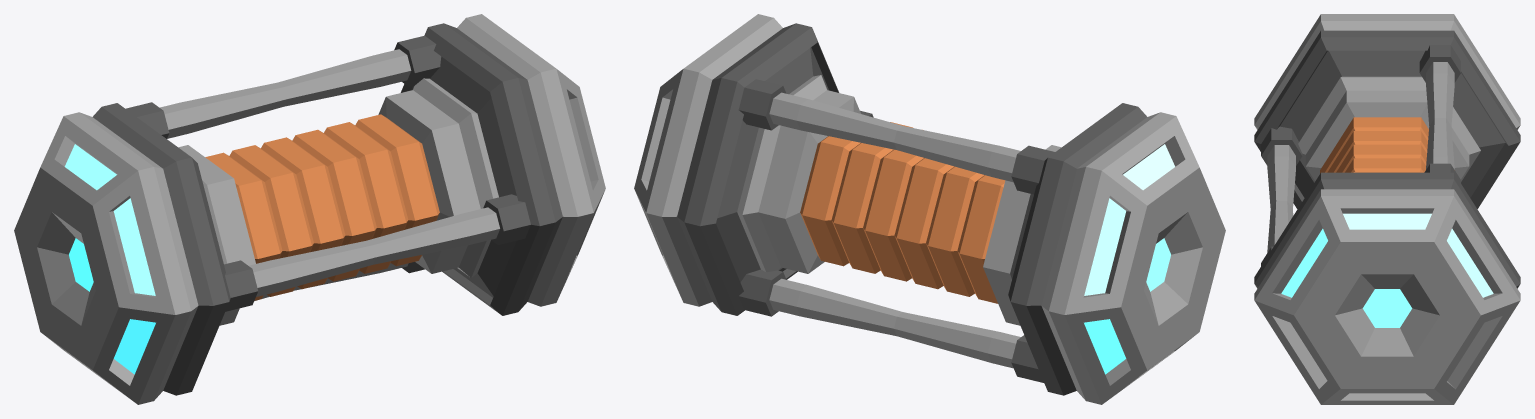
The model's file is SM_PowerCell.fbx.
3 views of the same model, side by side, from view 1: azimuth 30°, elevation 25°; view 2: azimuth 150°, elevation 25°; view 3: azimuth 270°, elevation 25° (orthographic). The views are drawn at different scales.
Visible parts, largest first — view 1: SM_PowerCell; view 2: SM_PowerCell; view 3: SM_PowerCell.
Boxes of the visible parts, x1=… form: SM_PowerCell: x1=14, y1=14, x2=605, y2=404; SM_PowerCell: x1=634, y1=14, x2=1225, y2=404; SM_PowerCell: x1=1254, y1=14, x2=1520, y2=404.
Size of the model in its own units: 82.85 by 38.09 by 43.98.
